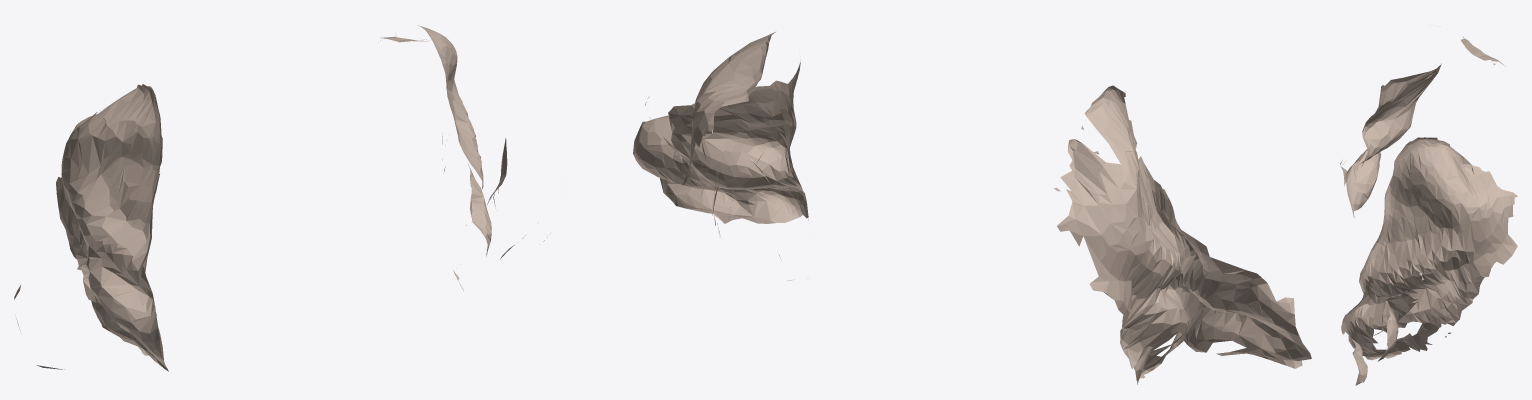
Rendered from insula.glb.
3 renders of one model, left to right at view 1: azimuth 30°, elevation 25°; view 2: azimuth 150°, elevation 25°; view 3: azimuth 270°, elevation 25°, orthographic. The views are drawn at different scales.
Visible parts, largest first — view 1: world; view 2: world; view 3: world.
Part boxes in pixels (<box>): world: <box>14,25,550,371</box>; world: <box>633,32,1311,384</box>; world: <box>1340,25,1517,385</box>.
Bounding box in the file's own units: 1.49 × 0.6382 × 0.4522.
